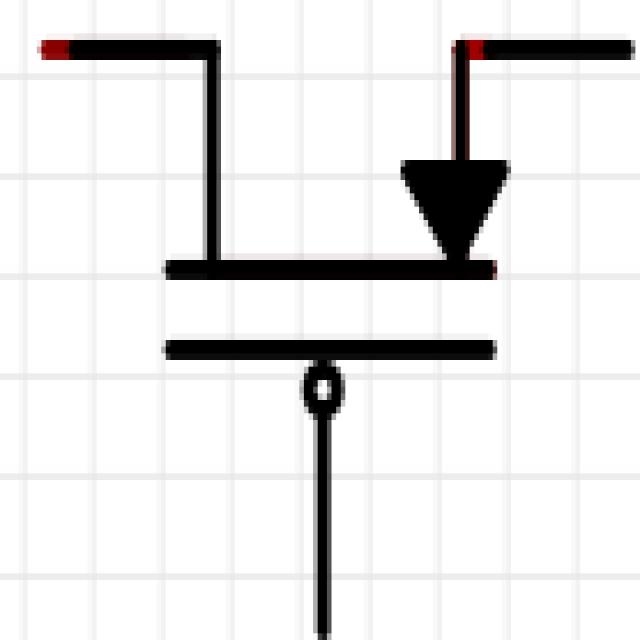pmos: (42, 0, 618, 640)
